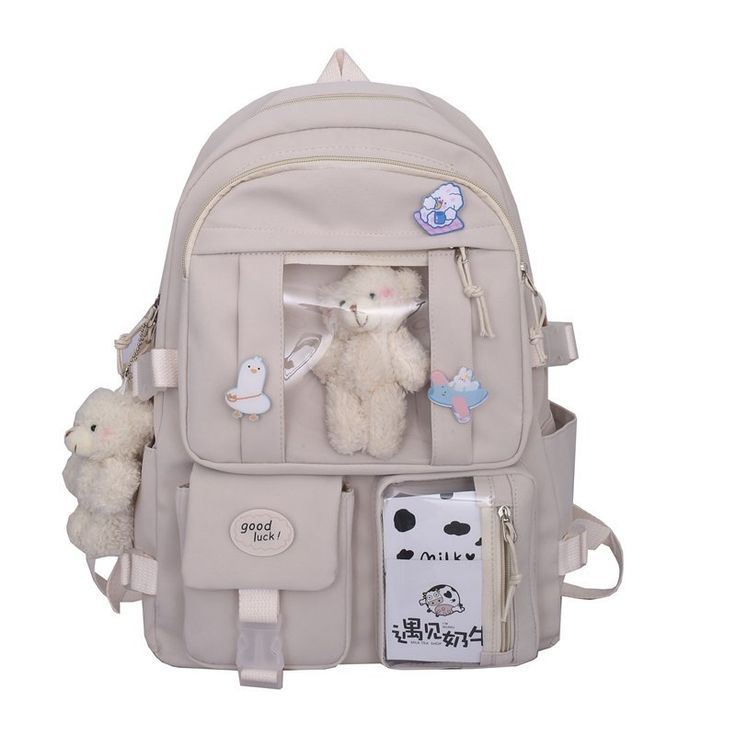nylon: (123, 83, 625, 688)
